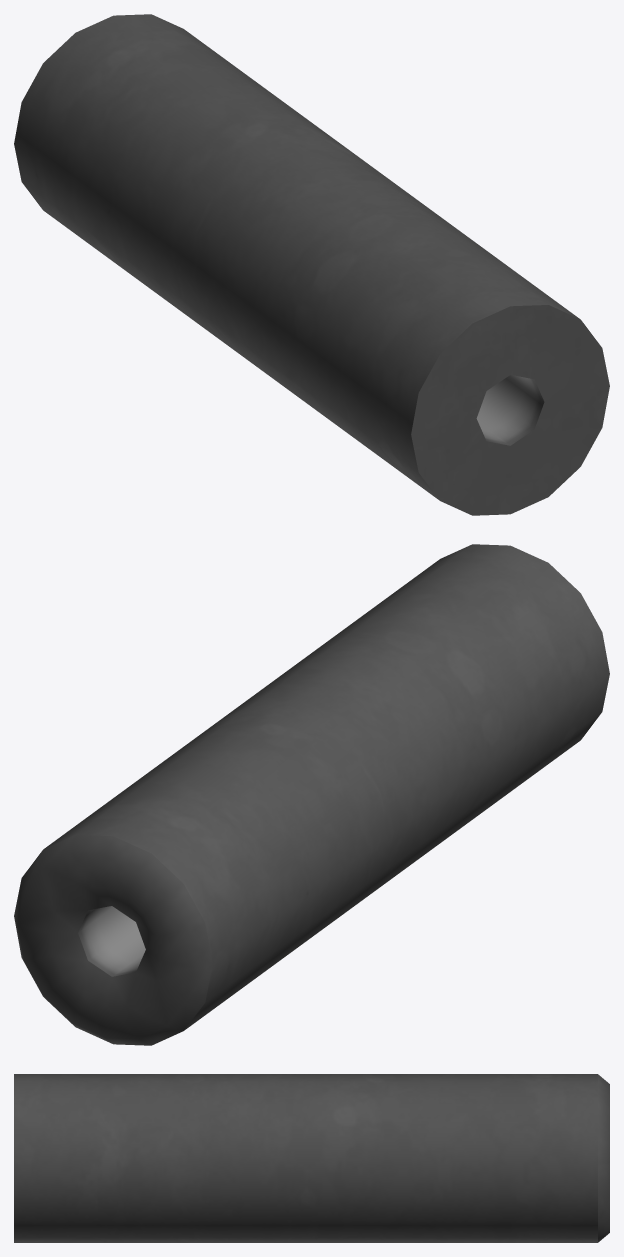
File: IG_Acc_Muzzle_SNP_SIL_1.fbx
The picture shows the model from 3 angles, top to bottom: view 1: azimuth 30°, elevation 25°; view 2: azimuth 150°, elevation 25°; view 3: azimuth 270°, elevation 25°; orthographic projection. The views are drawn at different scales.
Parts seen in each view (by area): view 1: Muzzle_SNP_SIL_1; view 2: Muzzle_SNP_SIL_1; view 3: Muzzle_SNP_SIL_1.
Part boxes in pixels (x1,y1,x2,y2): Muzzle_SNP_SIL_1: (14,14,609,515); Muzzle_SNP_SIL_1: (14,544,609,1045); Muzzle_SNP_SIL_1: (14,1074,609,1242).
Bounding box in the file's own units: 0.0734 × 0.0734 × 0.259.
